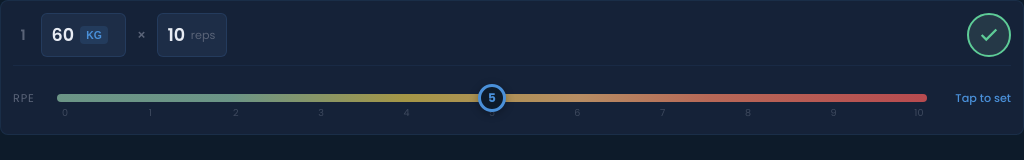
Test: SetRow › weight display › shows input when weight cell is clicked
This screenshot has width=1024, height=160.
Expected: the text "60" is shown, [52,22,74,48]
// Click to edit
Click the element with class "weight-cell".
click(84, 35)  # box [41,13,126,57]
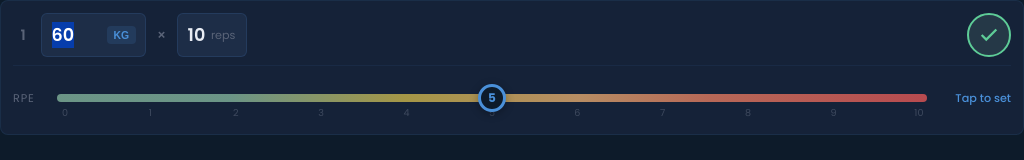
Expected: the number field with class "inline-input" is shown, [52,22,102,48]
